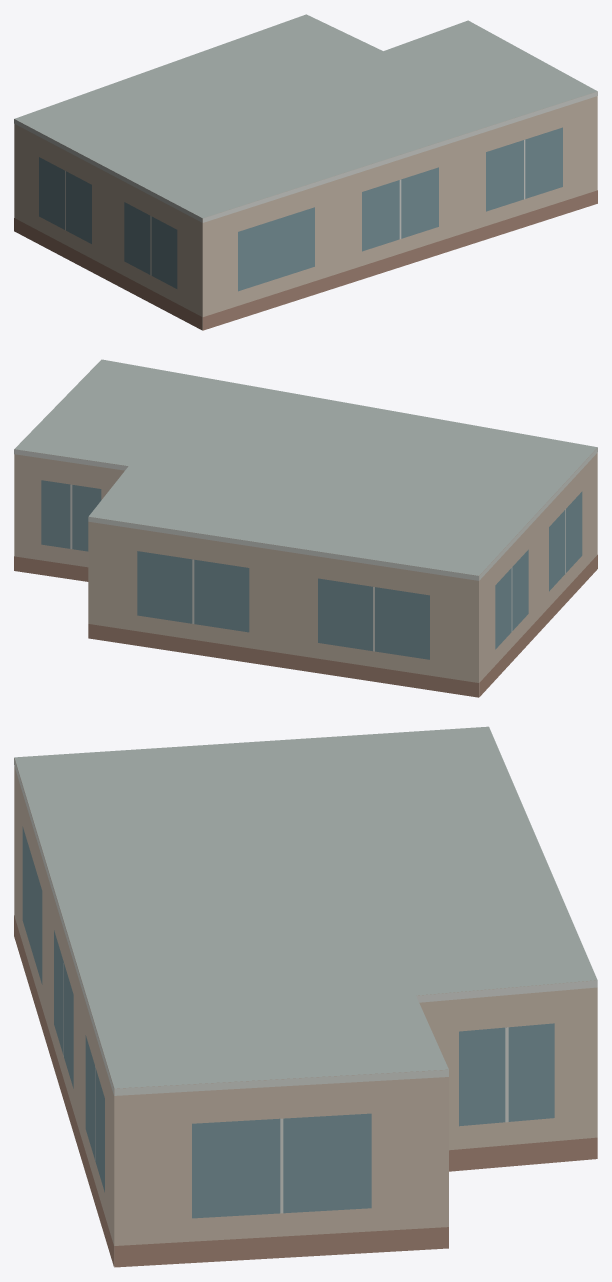
Rendered from survey-upis-32955279.glb.
3 views of the same model, one above another, from view 1: azimuth 30°, elevation 25°; view 2: azimuth 150°, elevation 25°; view 3: azimuth 270°, elevation 25° (orthographic). The views are drawn at different scales.
Visible parts, largest first — view 1: survey-upis-32955279.tmp; view 2: survey-upis-32955279.tmp; view 3: survey-upis-32955279.tmp.
Part boxes in pixels (x1,y1,x2,y2): survey-upis-32955279.tmp: [14, 14, 597, 330]; survey-upis-32955279.tmp: [14, 359, 597, 697]; survey-upis-32955279.tmp: [14, 726, 597, 1267].
Bounding box in the file's own units: 13.26 × 3.05 × 9.03.
